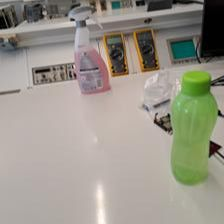bottle: (168, 69, 219, 185)
